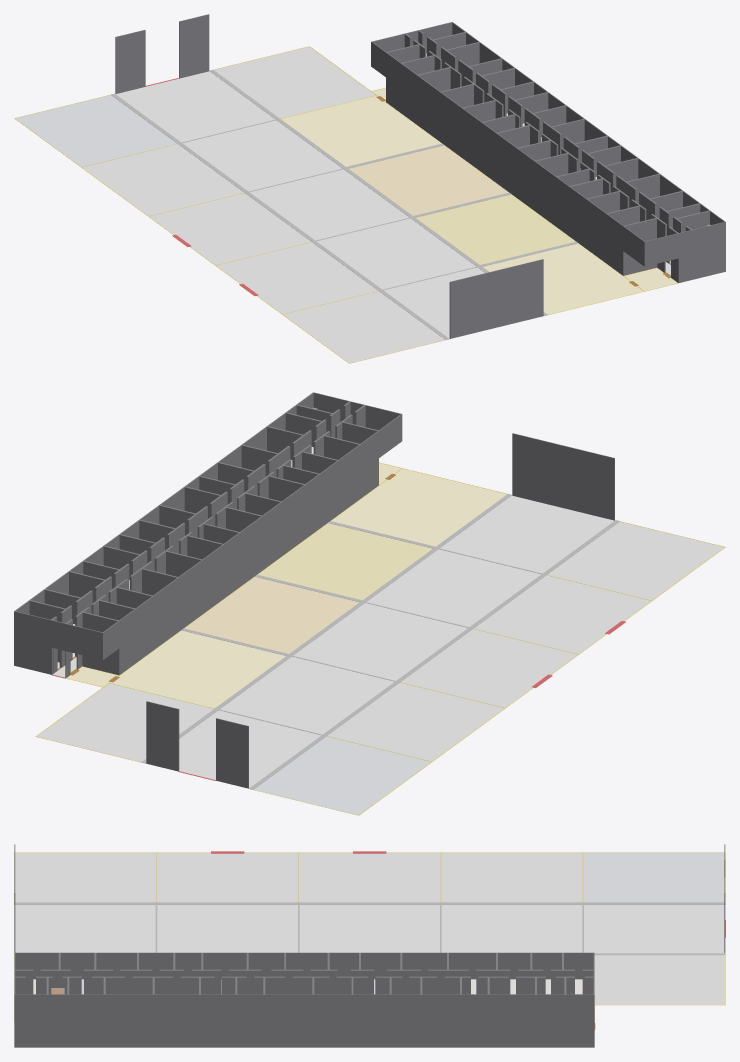
The model's file is floorplan.glb.
3 renders of one model, top to bottom at view 1: azimuth 30°, elevation 25°; view 2: azimuth 150°, elevation 25°; view 3: azimuth 270°, elevation 25°, orthographic. The views are drawn at different scales.
Visible parts, largest first — view 1: proc-factory-dev-003-F0-S011, proc-factory-dev-003-F0-S005, proc-factory-dev-003-F0-S014, proc-factory-dev-003-F0-S015, proc-factory-dev-003-F0-S012, proc-factory-dev-003-F0-S013, proc-factory-dev-003-F0-S004, proc-factory-dev-003-F0-S007, proc-factory-dev-003-F0-S009, proc-factory-dev-003-F0-S008, proc-factory-dev-003-F0-S010, proc-factory-dev-003-F0-S003 (+39 smaller); view 2: proc-factory-dev-003-F0-S011, proc-factory-dev-003-F0-S014, proc-factory-dev-003-F0-S015, proc-factory-dev-003-F0-S013, proc-factory-dev-003-F0-S012, proc-factory-dev-003-F0-S001, proc-factory-dev-003-F0-S004, proc-factory-dev-003-F0-S008, proc-factory-dev-003-F0-S007, proc-factory-dev-003-F0-S009, proc-factory-dev-003-F0-S006, proc-factory-dev-003-F0-S002 (+38 smaller); view 3: proc-factory-dev-003-F0-S014, proc-factory-dev-003-F0-S011, proc-factory-dev-003-F0-S015, proc-factory-dev-003-F0-S013, proc-factory-dev-003-F0-S012, proc-factory-dev-003-F0-S010, proc-factory-dev-003-F0-S009, proc-factory-dev-003-F0-S006, proc-factory-dev-003-F0-S007, proc-factory-dev-003-F0-S008, proc-factory-dev-003-F0-S005, walls:proc-factory-dev-003-F1-S001 (+54 smaller).
Part boxes in pixels (bbox=[...]): proc-factory-dev-003-F0-S011: bbox=[283, 291, 444, 363]; proc-factory-dev-003-F0-S005: bbox=[214, 46, 375, 118]; proc-factory-dev-003-F0-S014: bbox=[82, 144, 243, 216]; proc-factory-dev-003-F0-S015: bbox=[15, 95, 176, 166]; proc-factory-dev-003-F0-S012: bbox=[216, 242, 377, 314]; proc-factory-dev-003-F0-S013: bbox=[149, 193, 310, 265]; proc-factory-dev-003-F0-S004: bbox=[281, 95, 441, 166]; proc-factory-dev-003-F0-S007: bbox=[317, 218, 475, 289]; proc-factory-dev-003-F0-S009: bbox=[182, 120, 341, 191]; proc-factory-dev-003-F0-S008: bbox=[249, 169, 408, 240]; proc-factory-dev-003-F0-S010: bbox=[115, 71, 275, 142]; proc-factory-dev-003-F0-S003: bbox=[349, 145, 508, 215]; proc-factory-dev-003-F0-S011: bbox=[547, 521, 724, 600]; proc-factory-dev-003-F0-S014: bbox=[327, 682, 504, 761]; proc-factory-dev-003-F0-S015: bbox=[254, 736, 430, 815]; proc-factory-dev-003-F0-S013: bbox=[401, 629, 577, 707]; proc-factory-dev-003-F0-S012: bbox=[474, 575, 650, 654]; proc-factory-dev-003-F0-S001: bbox=[331, 468, 507, 546]; proc-factory-dev-003-F0-S004: bbox=[110, 630, 285, 708]; proc-factory-dev-003-F0-S008: bbox=[293, 603, 467, 680]; proc-factory-dev-003-F0-S007: bbox=[366, 549, 540, 627]; proc-factory-dev-003-F0-S009: bbox=[220, 656, 394, 734]; proc-factory-dev-003-F0-S006: bbox=[440, 495, 614, 573]; proc-factory-dev-003-F0-S002: bbox=[258, 523, 432, 600]; proc-factory-dev-003-F0-S014: bbox=[441, 852, 582, 902]; proc-factory-dev-003-F0-S011: bbox=[15, 852, 156, 902]; proc-factory-dev-003-F0-S015: bbox=[583, 852, 724, 902]; proc-factory-dev-003-F0-S013: bbox=[299, 852, 440, 902]; proc-factory-dev-003-F0-S012: bbox=[157, 852, 298, 902]; proc-factory-dev-003-F0-S010: bbox=[584, 904, 724, 953]; proc-factory-dev-003-F0-S009: bbox=[441, 904, 582, 952]; proc-factory-dev-003-F0-S006: bbox=[15, 904, 155, 952]; proc-factory-dev-003-F0-S007: bbox=[157, 904, 297, 952]; proc-factory-dev-003-F0-S008: bbox=[299, 904, 439, 952]; proc-factory-dev-003-F0-S005: bbox=[594, 955, 724, 1004]; walls:proc-factory-dev-003-F1-S001: bbox=[14, 970, 594, 994].
Bounding box in the file's own units: 55.8 × 8 × 85.65.
